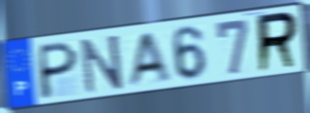6: (170, 23, 209, 83)
7: (213, 17, 251, 76)
A: (124, 29, 173, 90)
N: (79, 32, 126, 96)
P: (38, 39, 80, 101)
R: (256, 9, 299, 75)
